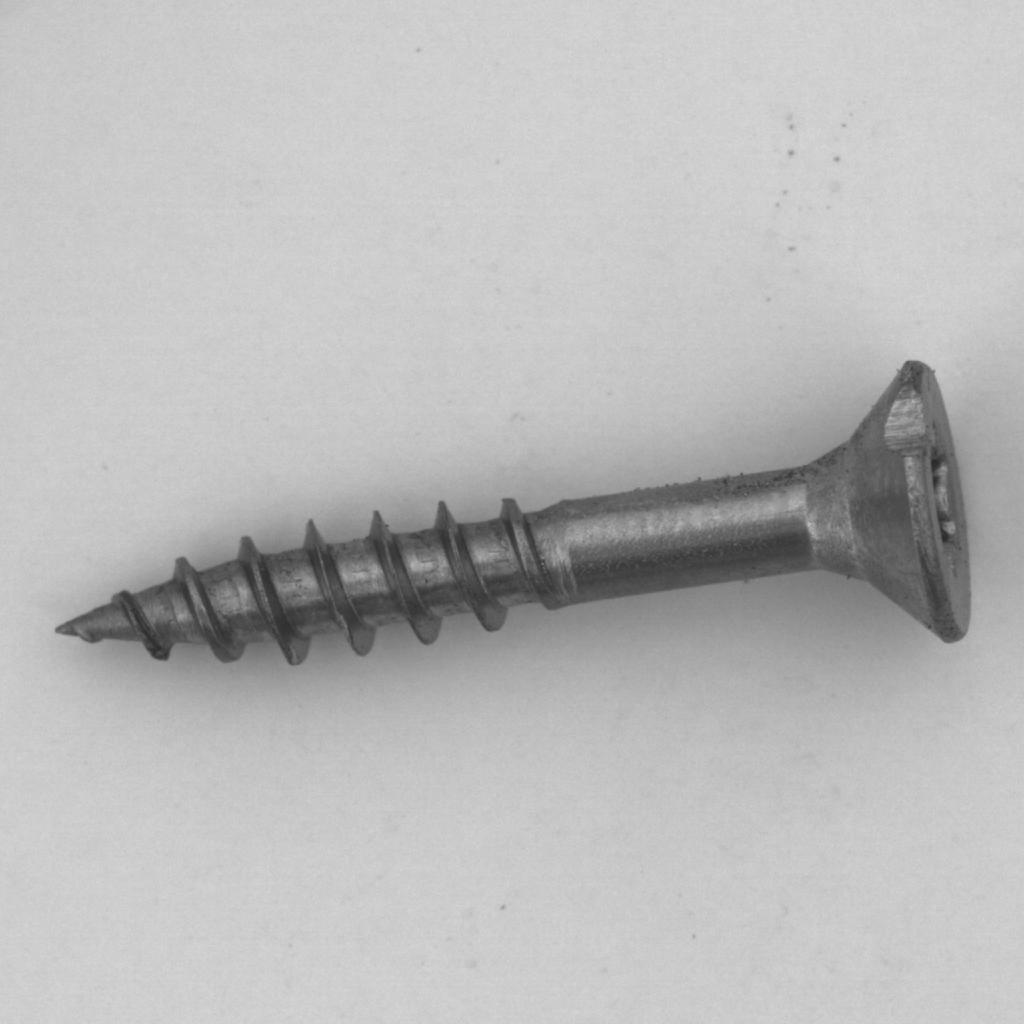thread_top: (105, 141, 928, 877)
